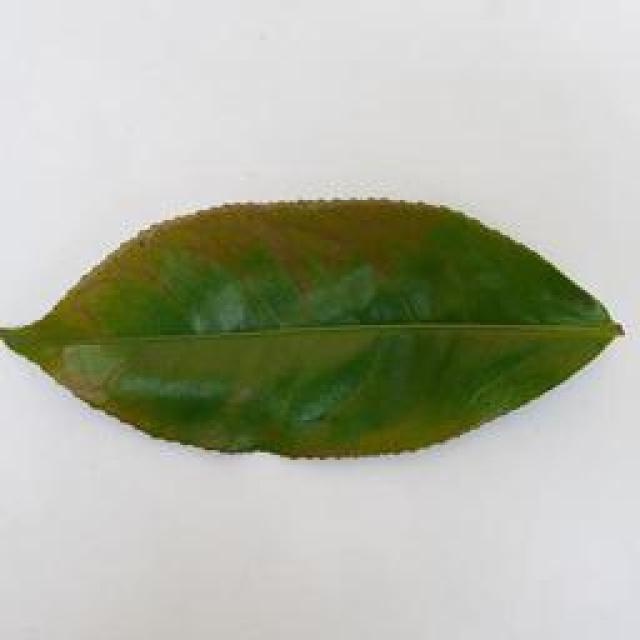Red Leaf Spot: (0, 193, 640, 460)
